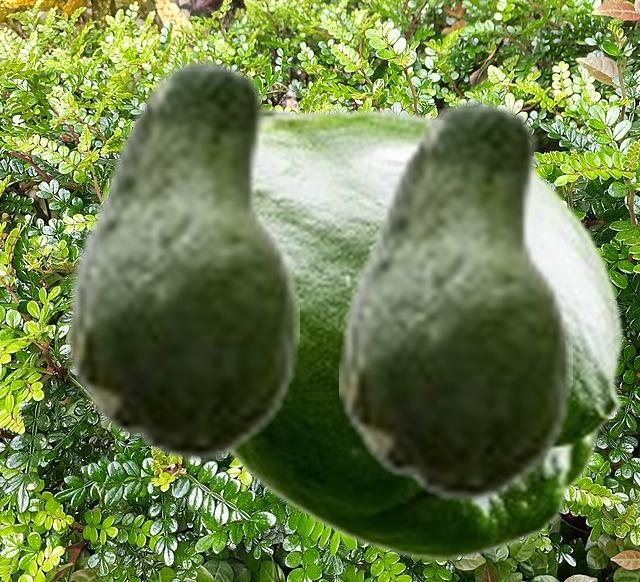sayote: (227, 107, 624, 561), (66, 58, 298, 463), (339, 98, 571, 503)
